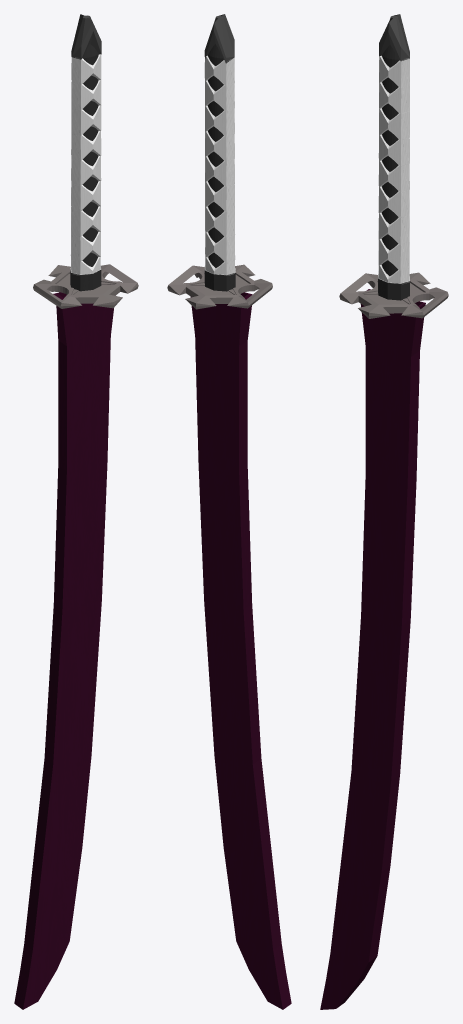
The picture shows the model from 3 angles, left to right: view 1: azimuth 30°, elevation 25°; view 2: azimuth 150°, elevation 25°; view 3: azimuth 330°, elevation 25°; orthographic projection. The views are drawn at different scales.
Visible parts, largest first — view 1: Cube.002, Cylinder; view 2: Cube.002, Cylinder; view 3: Cube.002, Cylinder.
Boxes of the visible parts, box(x1,y1,x2,y2) form: Cube.002: box(14, 292, 113, 1009); Cylinder: box(33, 14, 138, 308); Cube.002: box(190, 292, 291, 1009); Cylinder: box(167, 14, 272, 309); Cube.002: box(320, 289, 425, 1009); Cylinder: box(339, 14, 448, 318).
Size of the model in its own units: 1.03 by 8.84 by 0.8593.
Materials: 4 (4 with a texture image).
